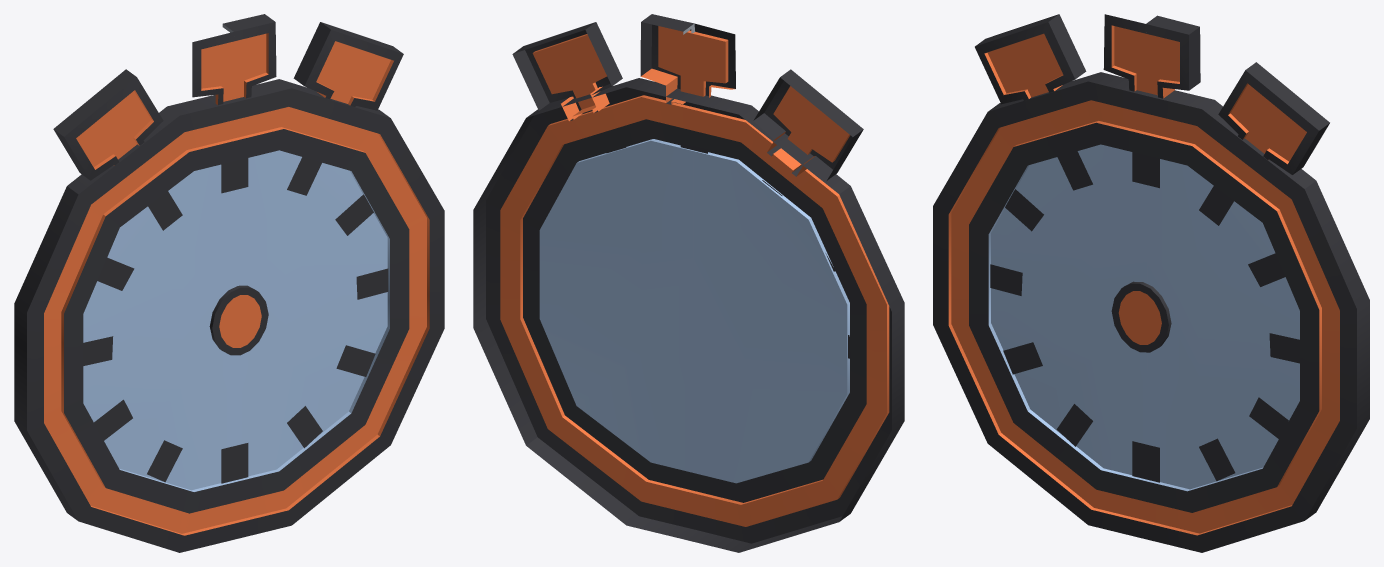
Rendered from stopwatch.glb.
The picture shows the model from 3 angles, left to right: view 1: azimuth 30°, elevation 25°; view 2: azimuth 150°, elevation 25°; view 3: azimuth 330°, elevation 25°; orthographic projection.
Parts seen in each view (by area): view 1: Stopwatch; view 2: Stopwatch; view 3: Stopwatch.
Boxes of the visible parts, x1=… form: Stopwatch: x1=14, y1=14, x2=444, y2=552; Stopwatch: x1=473, y1=14, x2=904, y2=552; Stopwatch: x1=933, y1=14, x2=1369, y2=552.
Bounding box in the file's own units: 4.24 × 4.91 × 0.3046.
1 material, 1 textured.
